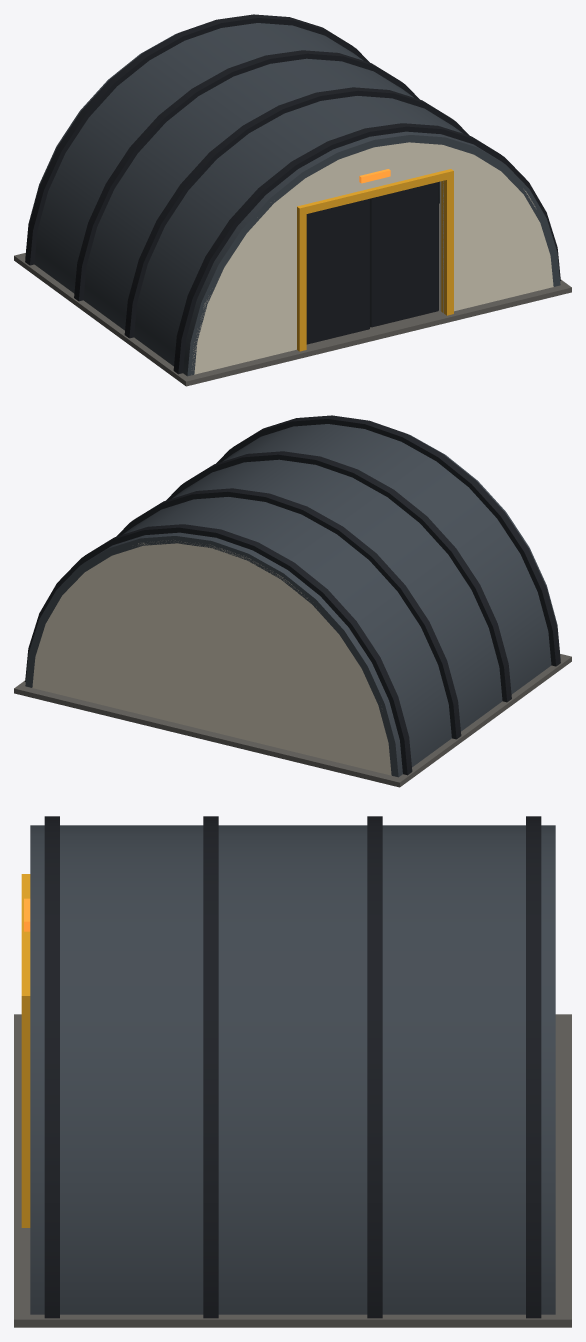
The model's file is hangar.glb.
3 renders of one model, top to bottom at view 1: azimuth 30°, elevation 25°; view 2: azimuth 150°, elevation 25°; view 3: azimuth 270°, elevation 25°, orthographic. The views are drawn at different scales.
Visible parts, largest first — view 1: hangar_mesh; view 2: hangar_mesh; view 3: hangar_mesh.
Boxes of the visible parts, <box> form: hangar_mesh: <box>14,14,571,386</box>; hangar_mesh: <box>14,415,571,787</box>; hangar_mesh: <box>14,816,571,1327</box>.
Size of the model in its own units: 6.6 by 3.28 by 5.1.
